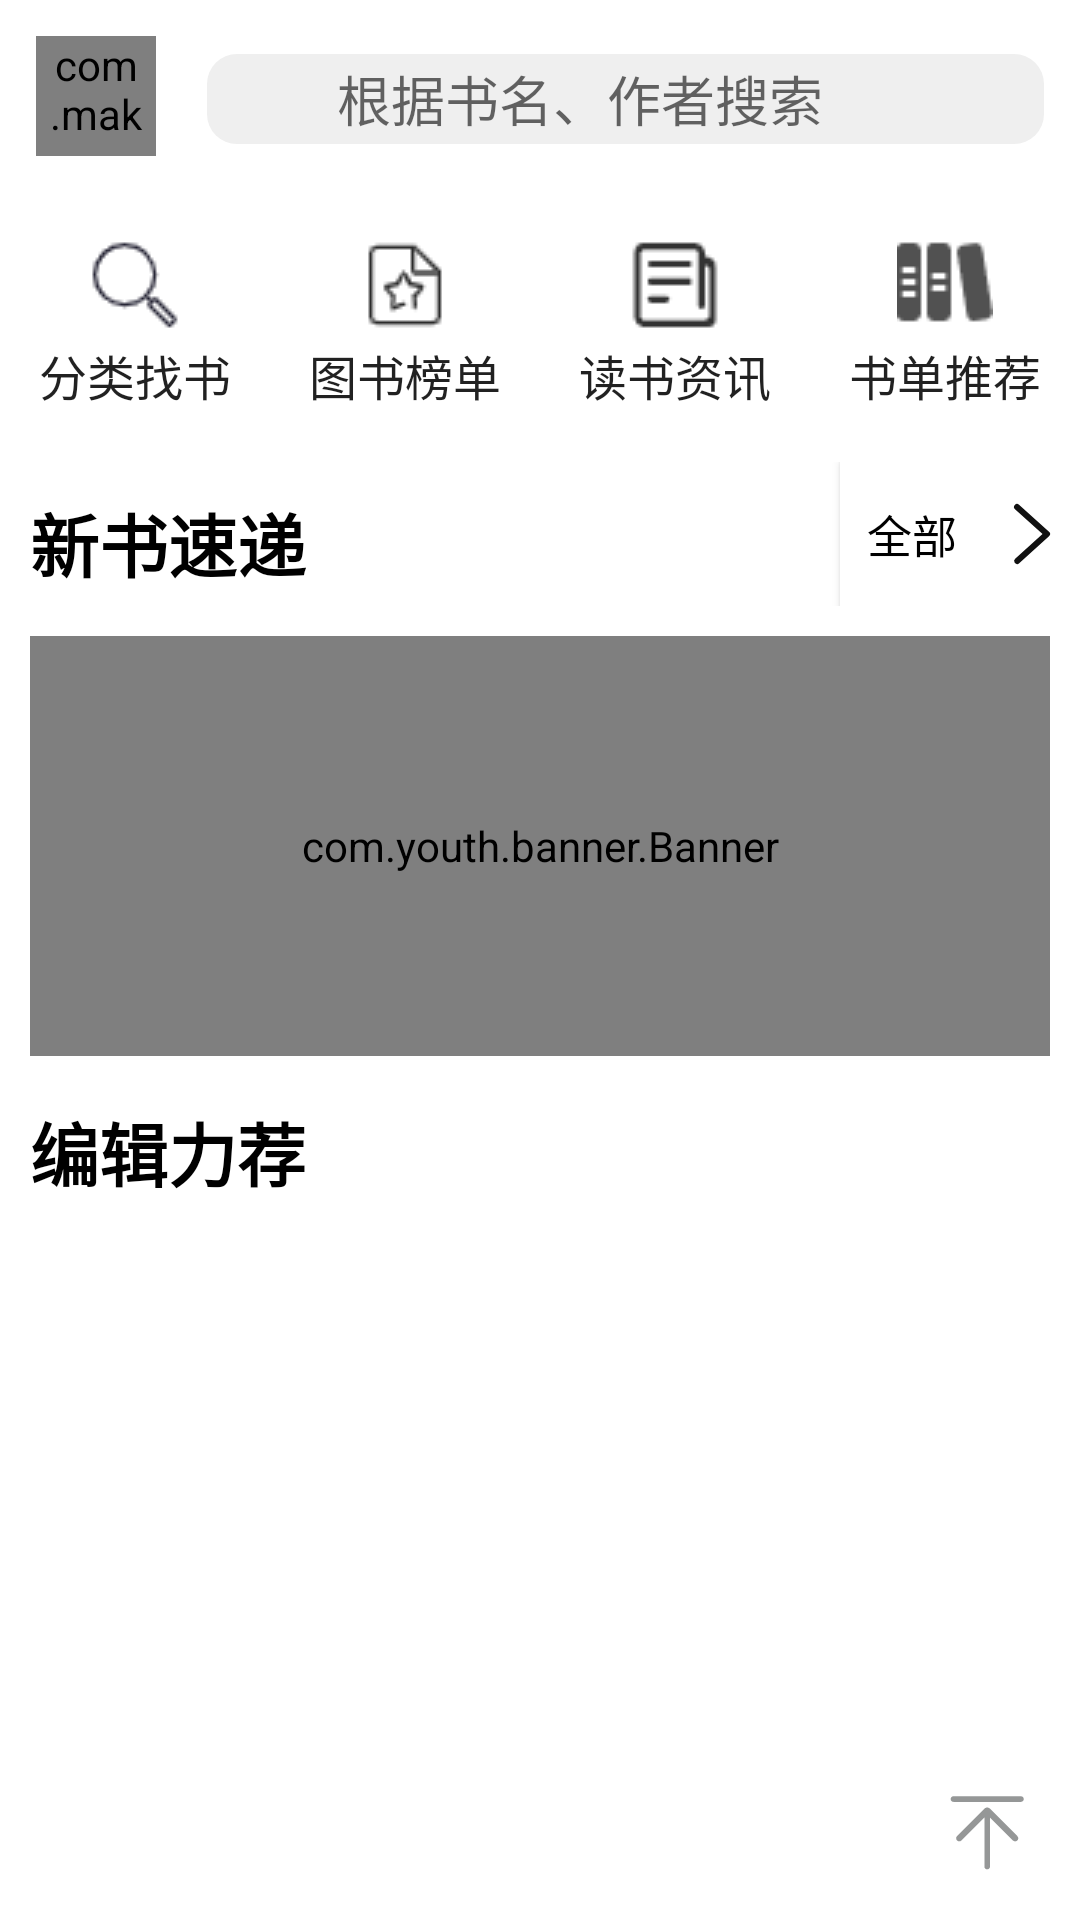

Where icons sit on this 1080*1920 app screen, as (x1, y1, x2, y2):
backtotop: (950, 1796, 1024, 1870)
